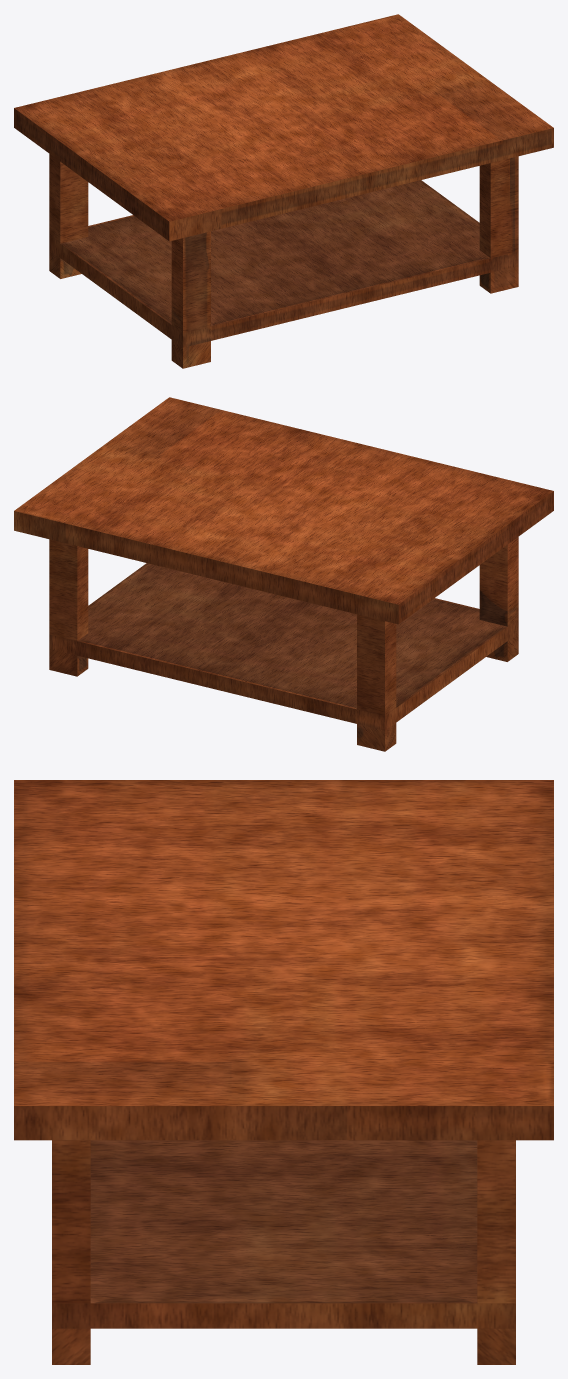
The model's file is CoffeeTable.fbx.
3 views of the same model, one above another, from view 1: azimuth 30°, elevation 25°; view 2: azimuth 150°, elevation 25°; view 3: azimuth 270°, elevation 25° (orthographic). The views are drawn at different scales.
Visible parts, largest first — view 1: CoffeTable; view 2: CoffeTable; view 3: CoffeTable.
Boxes of the visible parts, x1=… form: CoffeTable: x1=14, y1=14, x2=553, y2=368; CoffeTable: x1=14, y1=397, x2=553, y2=751; CoffeTable: x1=14, y1=780, x2=553, y2=1364.
Bounding box in the file's own units: 1 × 0.7 × 0.4.
